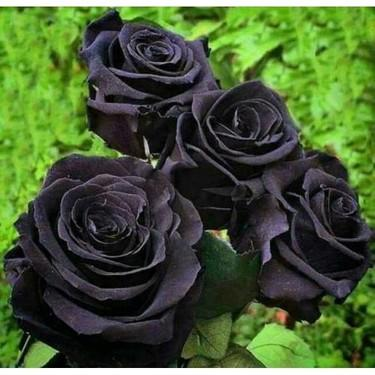Rose: (14, 143, 212, 361), (229, 144, 375, 326), (81, 9, 221, 152), (194, 69, 308, 209)
